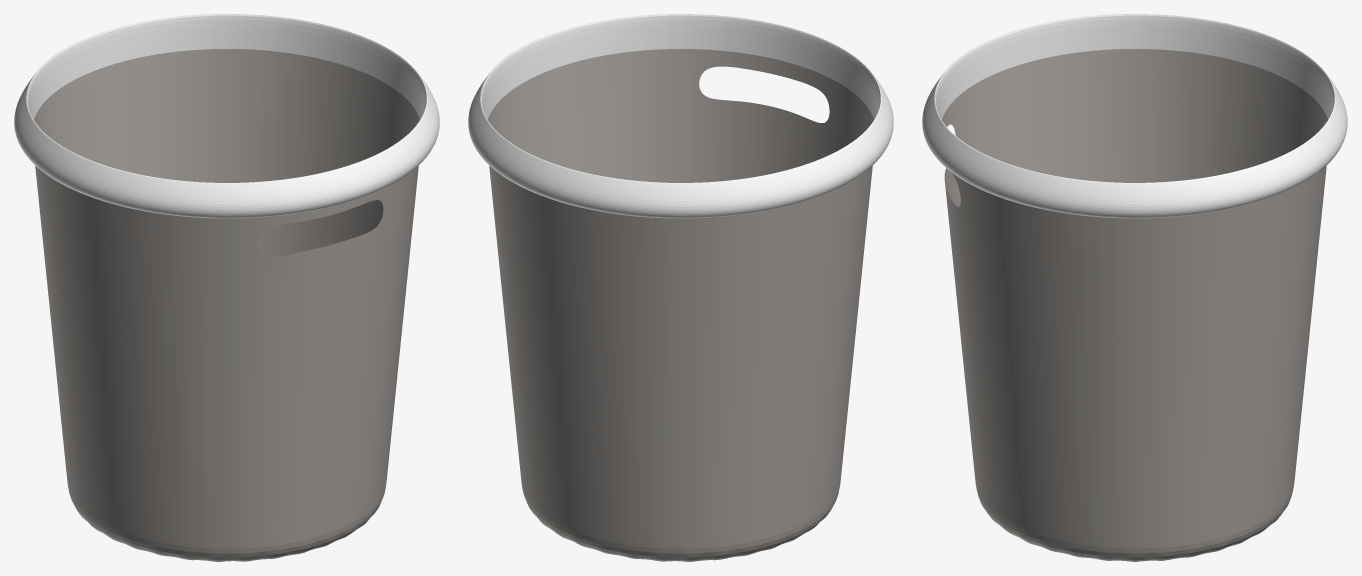
The model's file is garbageCan.fbx.
The picture shows the model from 3 angles, left to right: view 1: azimuth 30°, elevation 25°; view 2: azimuth 150°, elevation 25°; view 3: azimuth 270°, elevation 25°; orthographic projection.
Parts seen in each view (by area): view 1: Cylinder; view 2: Cylinder; view 3: Cylinder.
Boxes of the visible parts, <box> form: Cylinder: <box>14,14,439,561</box>; Cylinder: <box>468,14,893,561</box>; Cylinder: <box>922,14,1347,561</box>.
Bounding box in the file's own units: 270 × 289 × 270.
